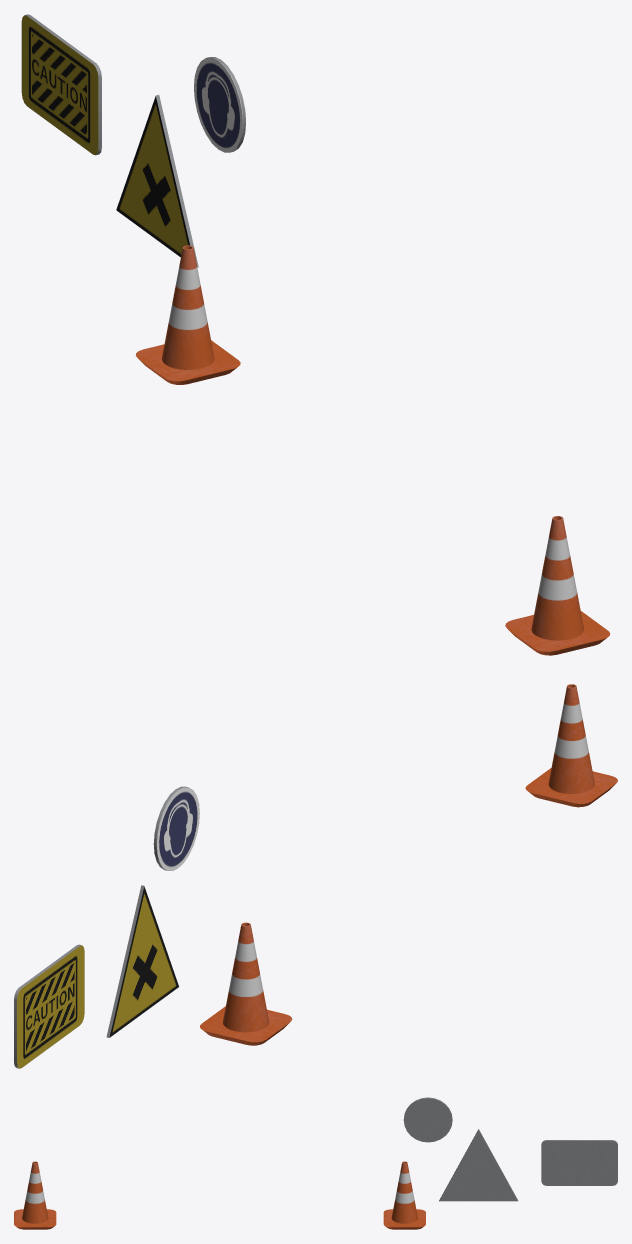
Rendered from signlitique.fbx.
3 renders of one model, top to bottom at view 1: azimuth 30°, elevation 25°; view 2: azimuth 150°, elevation 25°; view 3: azimuth 270°, elevation 25°, orthographic. The views are drawn at different scales.
Visible parts, largest first — view 1: Sign_03, Sign_05, Cone001, Cone, Sign_01; view 2: Sign_03, Sign_05, Cone001, Cone, Sign_01; view 3: Sign_03, Sign_05, Sign_01, Cone, Cone001.
Boxes of the visible parts, x1=… form: Sign_03: x1=21, y1=14, x2=101, y2=155; Sign_05: x1=116, y1=95, x2=198, y2=267; Cone001: x1=505, y1=516, x2=610, y2=655; Cone: x1=135, y1=245, x2=240, y2=384; Sign_01: x1=194, y1=57, x2=245, y2=152; Sign_03: x1=14, y1=944, x2=84, y2=1068; Sign_05: x1=106, y1=885, x2=178, y2=1037; Cone001: x1=525, y1=684, x2=617, y2=807; Cone: x1=200, y1=922, x2=292, y2=1045; Sign_01: x1=153, y1=786, x2=199, y2=870; Sign_03: x1=541, y1=1140, x2=617, y2=1185; Sign_05: x1=439, y1=1129, x2=518, y2=1201; Sign_01: x1=403, y1=1097, x2=452, y2=1142; Cone: x1=383, y1=1161, x2=425, y2=1229; Cone001: x1=14, y1=1161, x2=56, y2=1229.
Bounding box in the file's own units: 0.9319 × 2.61 × 10.41.
Materials: 1 (1 with a texture image).
